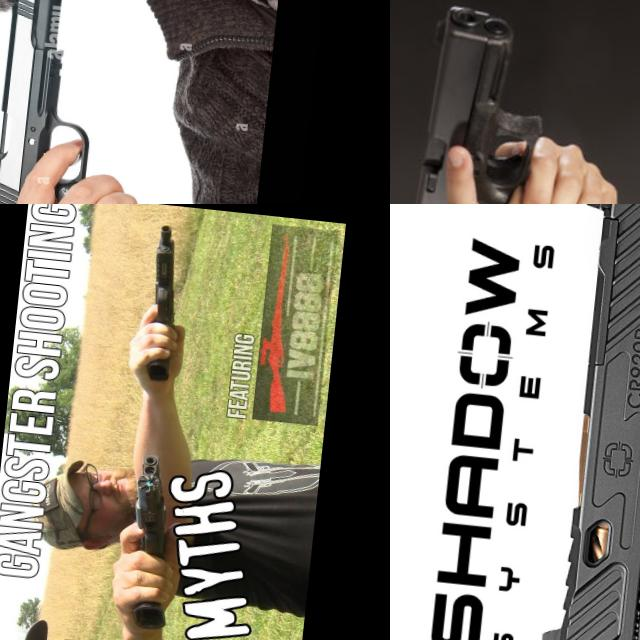handgun: (523, 204, 640, 640), (399, 0, 560, 204), (0, 0, 110, 204), (126, 448, 176, 562), (147, 220, 186, 326)
